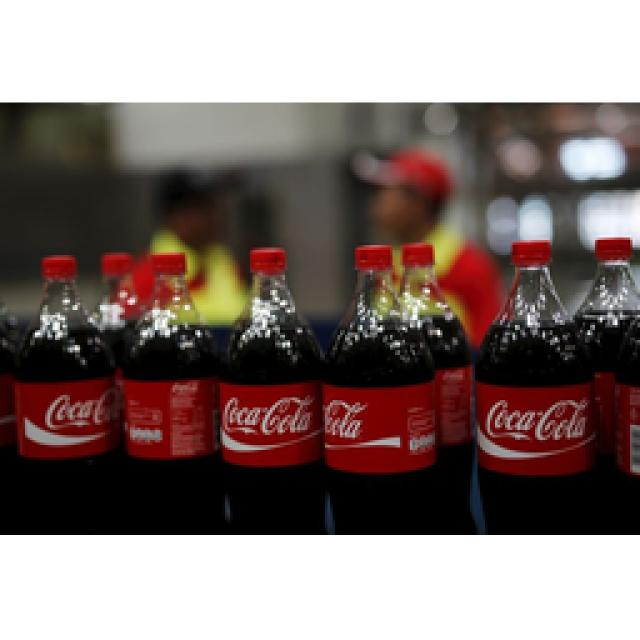plastic_soda_bottles: (476, 242, 593, 529), (215, 240, 331, 529), (326, 240, 439, 533), (113, 247, 227, 529), (13, 252, 113, 538), (405, 238, 474, 532), (575, 234, 640, 527)
